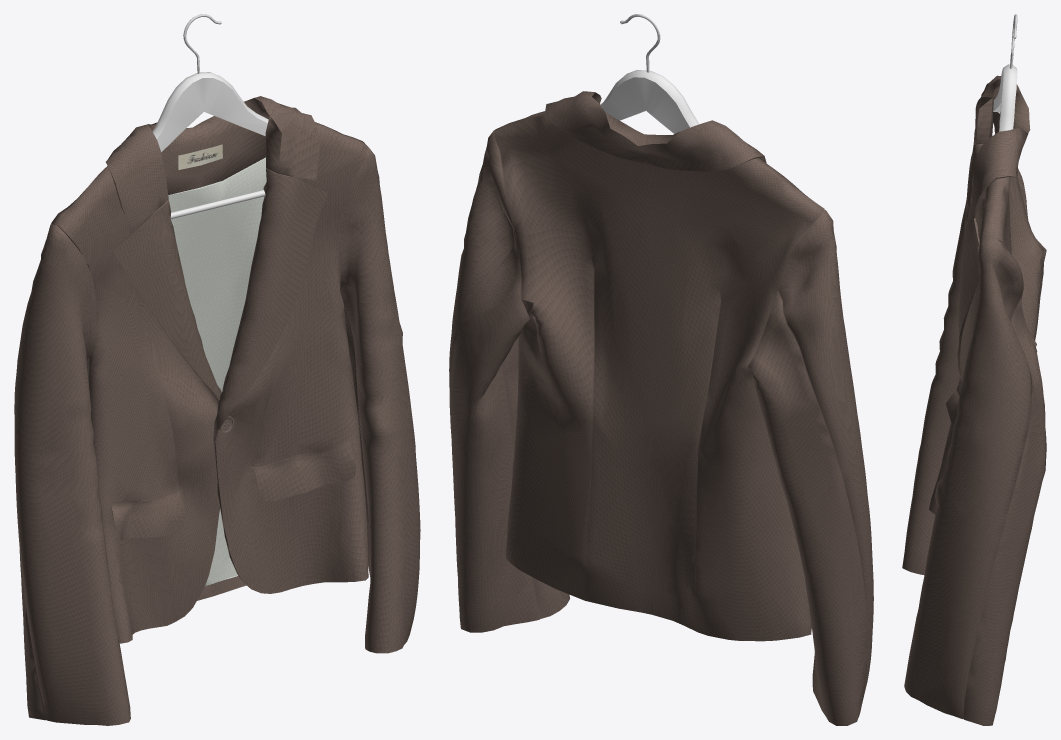
The model's file is jaket_w.glb.
3 renders of one model, left to right at view 1: azimuth 30°, elevation 25°; view 2: azimuth 150°, elevation 25°; view 3: azimuth 270°, elevation 25°, orthographic. The views are drawn at different scales.
Parts seen in each view (by area): view 1: BP_jaket_w; view 2: BP_jaket_w; view 3: BP_jaket_w.
Boxes of the visible parts, x1,y1,x2,y2 form: BP_jaket_w: [14, 14, 420, 725]; BP_jaket_w: [449, 14, 873, 725]; BP_jaket_w: [902, 14, 1046, 725].
Bounding box in the file's own units: 0.514 × 0.8097 × 0.1692.
Materials: 6 (3 with a texture image).
